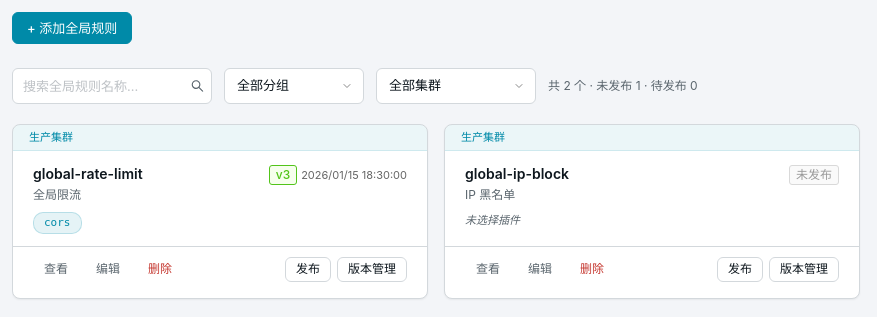
it: GlobalRuleList.vue › 搜索框有输入时出现一键清空按钮，点击清词并立即重载
Type "rate" into the field with placeholder "搜索全局规则名称...".
click(112, 86); type("rate")  # box [12,68,212,104]
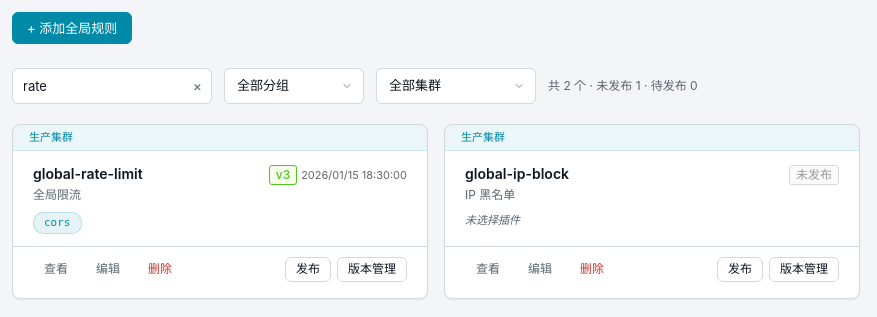
Expected: the button with class "search-clear" is shown
Click the button with class "search-clear".
click(197, 86)  # box [191,77,204,95]
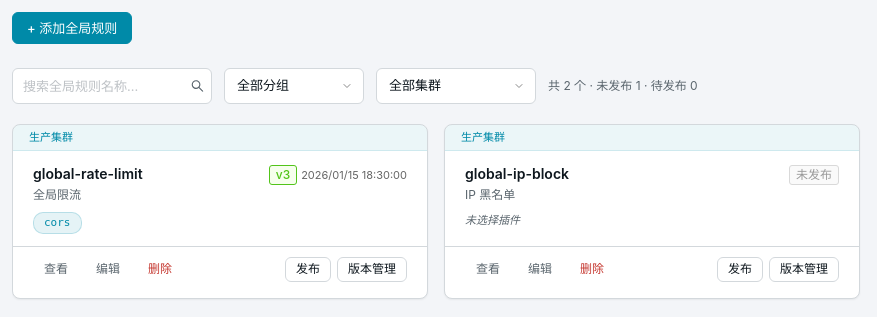
Expected: the field with placeholder "搜索全局规则名称..." is empty, [12,68,212,104]
